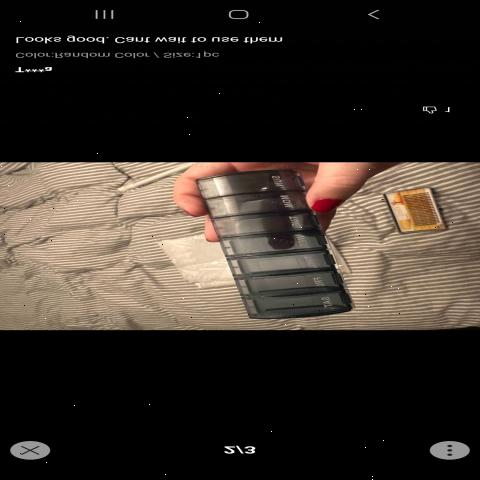PillBox: (187, 171, 378, 329)
